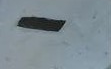Spalling: (16, 16, 67, 33)
